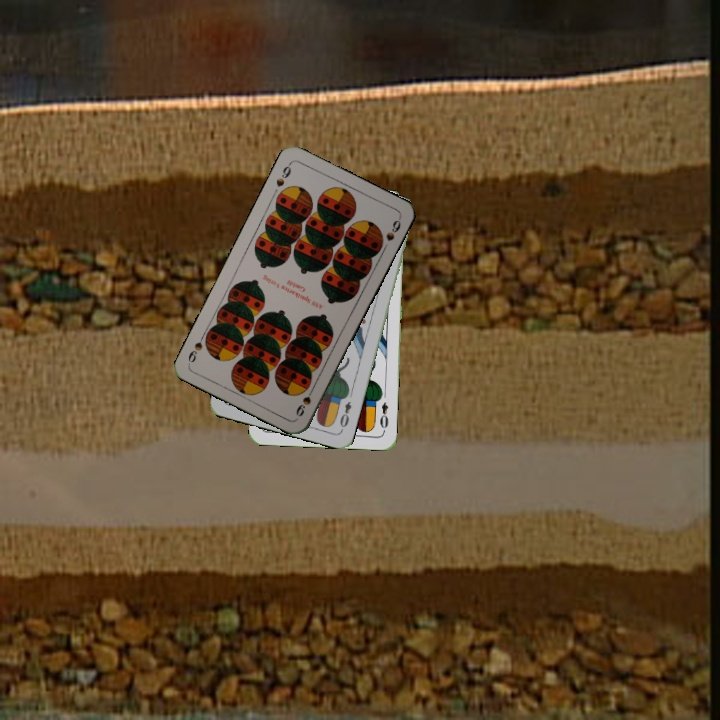EO: (336, 397, 354, 433), (376, 398, 391, 434)
S9: (292, 382, 317, 419), (272, 159, 294, 189)
